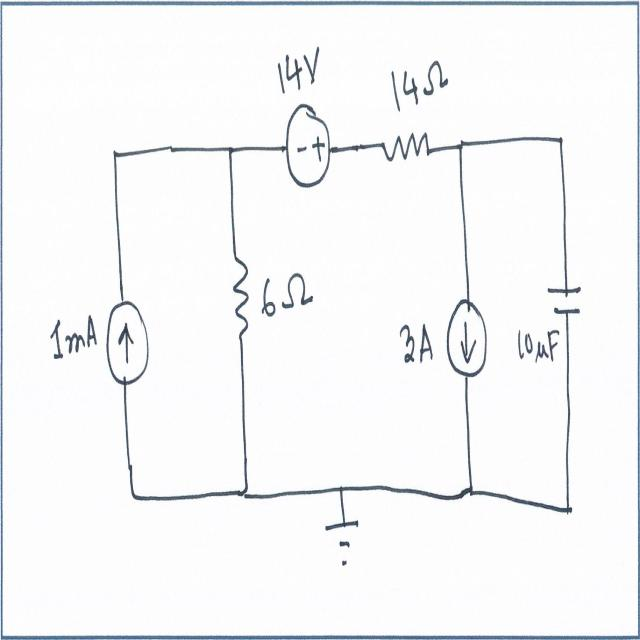capacitor: (547, 276, 584, 318)
current_source: (106, 299, 149, 387), (447, 299, 489, 381)
ground: (323, 515, 364, 571)
resistor: (382, 125, 432, 168), (230, 248, 250, 340)
voltage_source: (285, 100, 332, 192)
